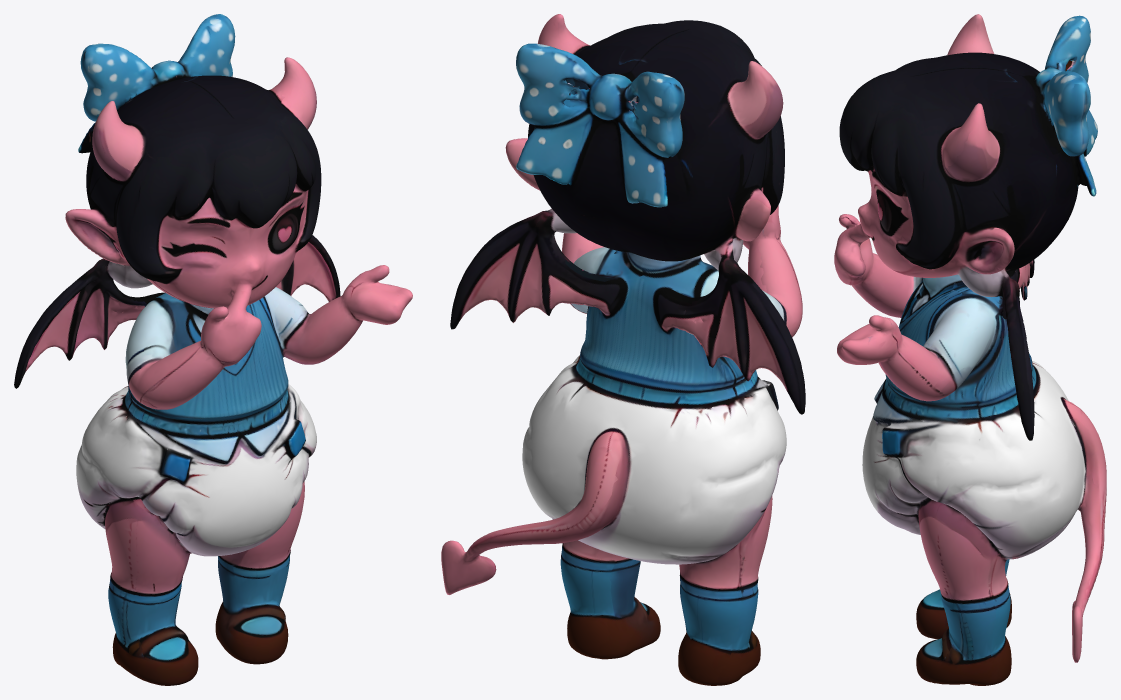
Rendered from keek.glb.
The picture shows the model from 3 angles, left to right: view 1: azimuth 30°, elevation 25°; view 2: azimuth 150°, elevation 25°; view 3: azimuth 270°, elevation 25°; orthographic projection. The views are drawn at different scales.
Parts seen in each view (by area): view 1: temp_mesh.ply; view 2: temp_mesh.ply; view 3: temp_mesh.ply.
Part boxes in pixels (x1=…): temp_mesh.ply: x1=14, y1=14, x2=412, y2=685; temp_mesh.ply: x1=441, y1=14, x2=805, y2=685; temp_mesh.ply: x1=834, y1=14, x2=1106, y2=685.
Bounding box in the file's own units: 3.72 × 6.39 × 2.6.
Materials: 1 (1 with a texture image).
